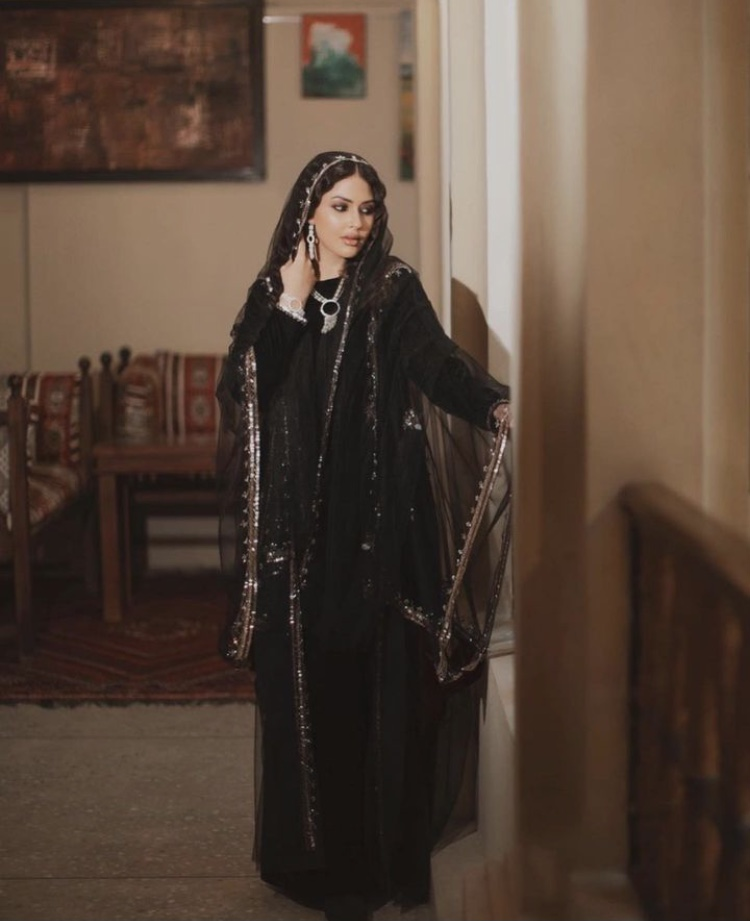Saudi_Founding_Day: (214, 150, 512, 921)
